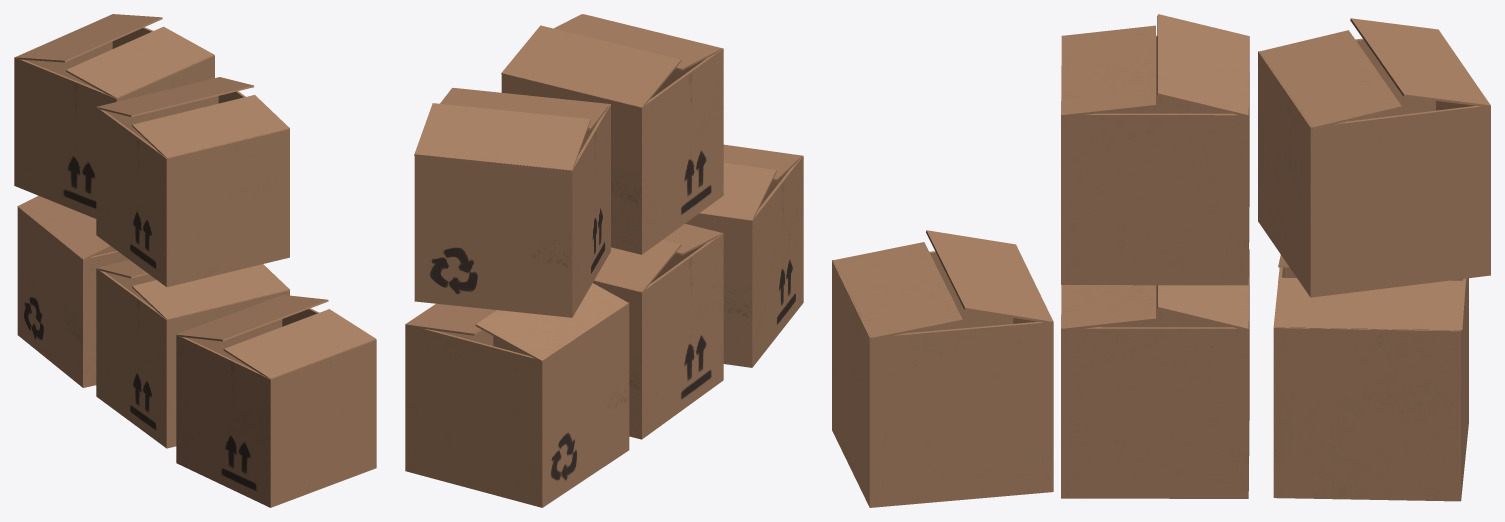
File: Kisten_Regal.fbx
3 views of the same model, side by side, from view 1: azimuth 30°, elevation 25°; view 2: azimuth 150°, elevation 25°; view 3: azimuth 270°, elevation 25° (orthographic). The views are drawn at different scales.
Parts seen in each view (by area): view 1: Plane.005; view 2: Plane.005; view 3: Plane.005.
Part boxes in pixels (x1,y1,x2,y2): Plane.005: (14,14,376,507); Plane.005: (405,14,803,507); Plane.005: (832,14,1490,507).
Bounding box in the file's own units: 249 × 477 × 702.
